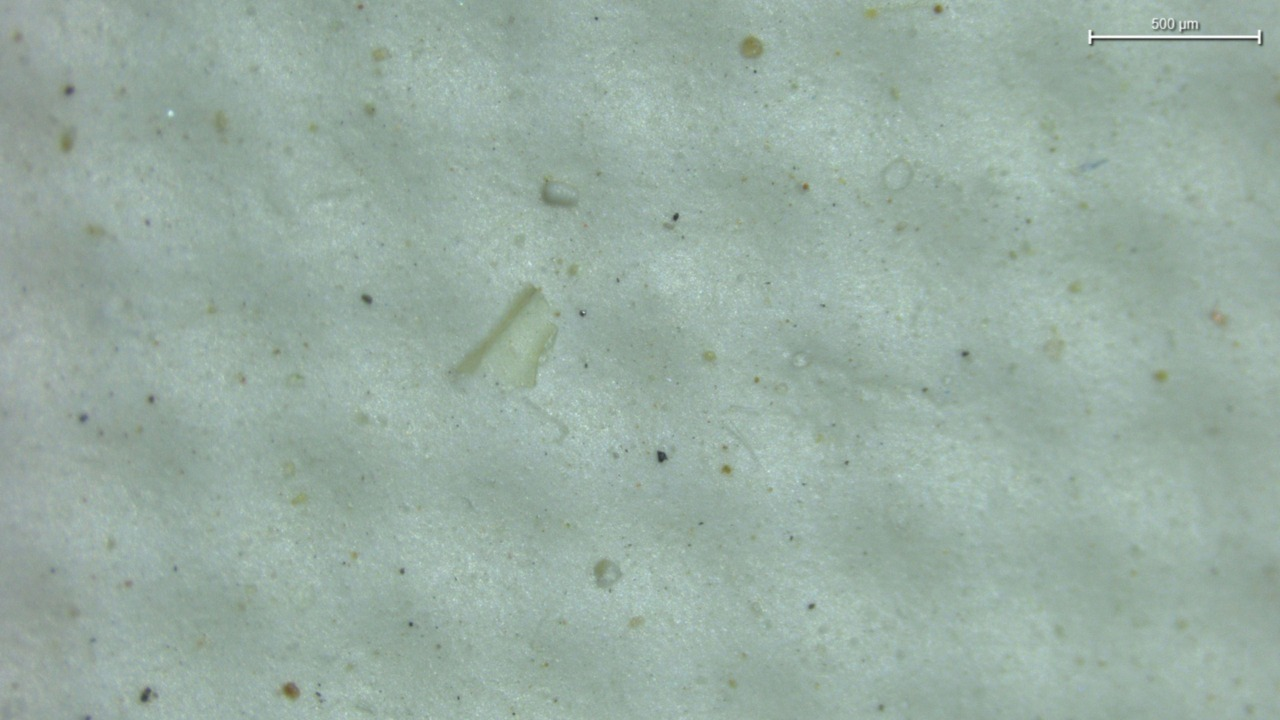microplastic_fragment: (452, 285, 558, 388)
